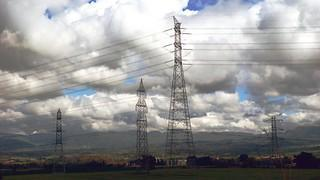power_tower: (159, 13, 199, 162), (129, 74, 153, 159), (261, 113, 287, 159), (54, 107, 68, 155)
